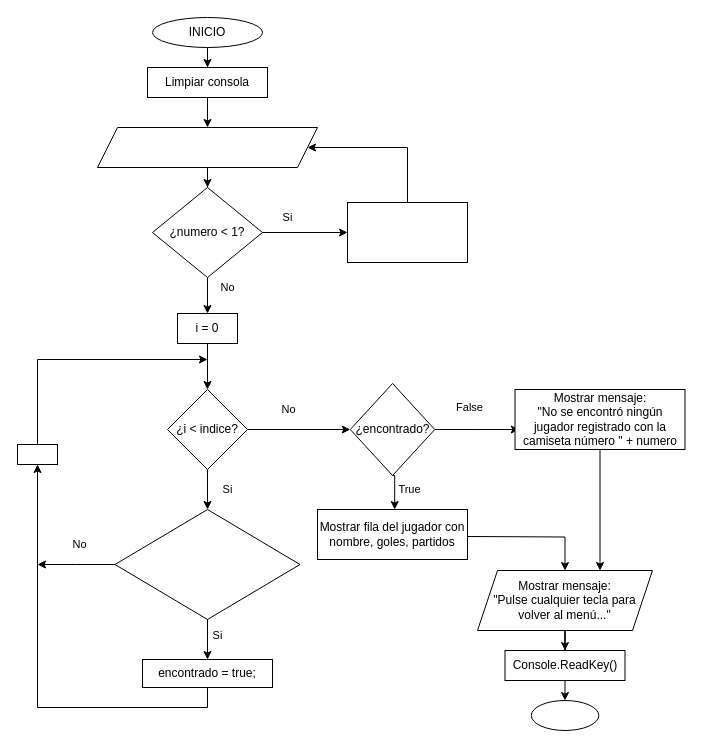
Some shapes in this 703 by 748 pixel diagram are drawn without their labels. Here are the shapes that lost their labels. From the top down, the centre of each, then its label:
(207,147): Ingreso: Número de Camiseta (numero)
(407,232): Mostrar mensaje: "Número de camiseta inválido, reingrese otro número."
(37,454): i++;
(207,564): ¿jugadores[i].numCamiseta == numero && jugadores[i].nombre != null?
(564,715): FIN
